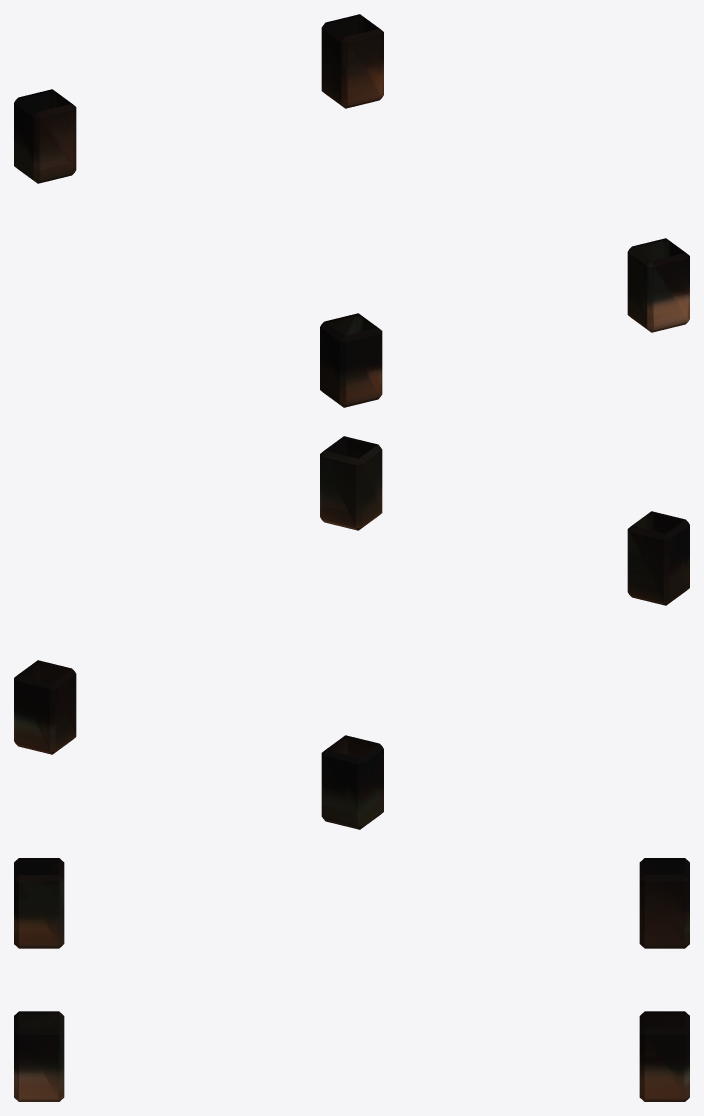
File: couchfuesse.gltf
3 views of the same model, one above another, from view 1: azimuth 30°, elevation 25°; view 2: azimuth 150°, elevation 25°; view 3: azimuth 270°, elevation 25° (orthographic). The views are drawn at different scales.
Visible parts, largest first — view 1: Couch_fuesse; view 2: Couch_fuesse; view 3: Couch_fuesse.
Boxes of the visible parts, bbox=[...] form: Couch_fuesse: bbox=[14, 14, 689, 407]; Couch_fuesse: bbox=[14, 436, 689, 829]; Couch_fuesse: bbox=[14, 858, 689, 1101].
Size of the model in its own units: 2.55 by 0.499 by 4.16.
1 material, 1 textured.
